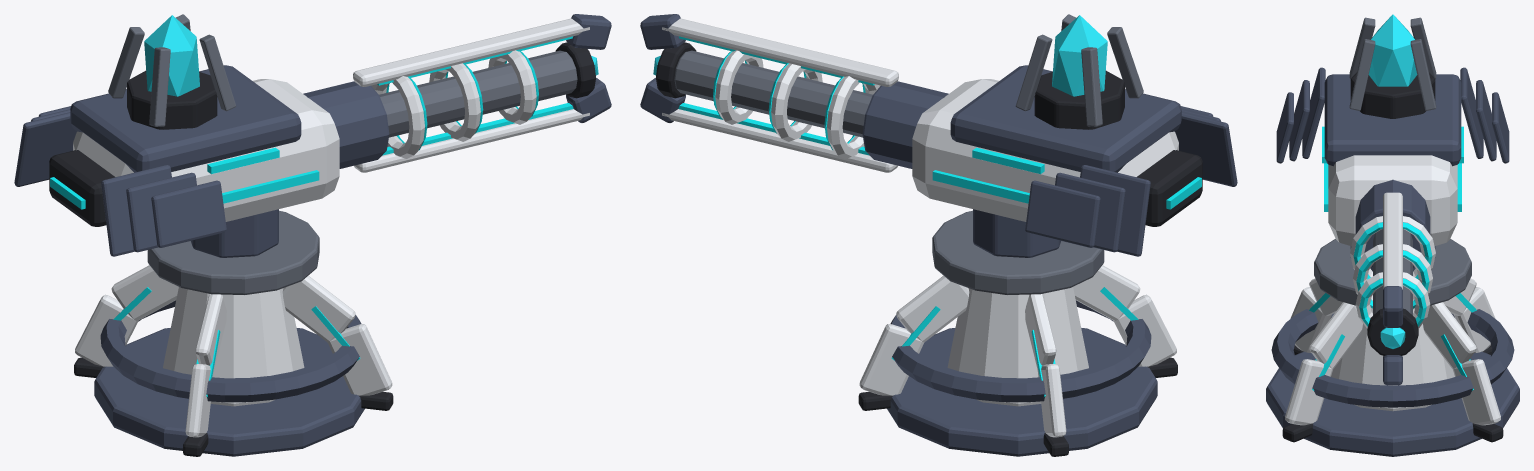
The model's file is torreta_laser.fbx.
3 renders of one model, left to right at view 1: azimuth 30°, elevation 25°; view 2: azimuth 150°, elevation 25°; view 3: azimuth 270°, elevation 25°, orthographic. The views are drawn at different scales.
Visible parts, largest first — view 1: Pivot, Base, Barrel; view 2: Pivot, Base, Barrel; view 3: Pivot, Base, Barrel.
Part boxes in pixels (x1,y1,x2,y2): Pivot: [14, 14, 339, 294]; Base: [74, 265, 393, 456]; Barrel: [303, 14, 611, 172]; Pivot: [912, 14, 1237, 294]; Base: [858, 265, 1177, 456]; Barrel: [640, 14, 948, 172]; Pivot: [1276, 14, 1509, 305]; Base: [1266, 278, 1519, 456]; Barrel: [1350, 179, 1435, 385].
Size of the model in its own units: 519 by 364 by 230.
Materials: 1 (1 with a texture image).
